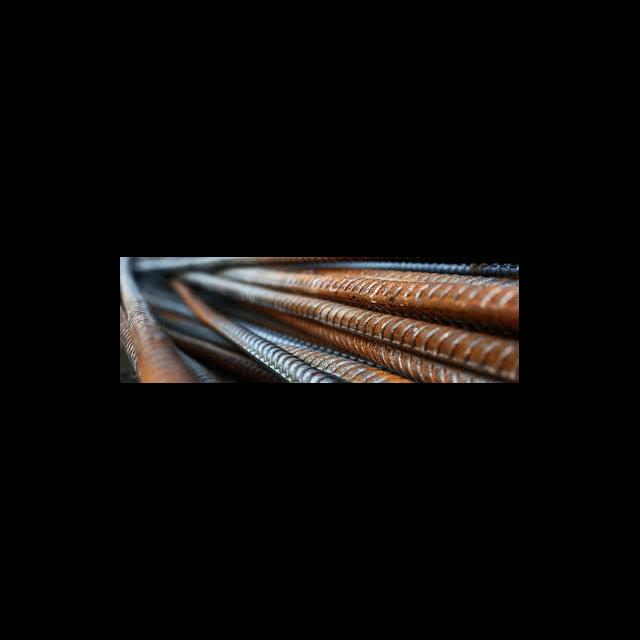metal: (208, 284, 518, 380), (166, 278, 336, 382), (120, 264, 188, 382), (302, 258, 518, 278)
